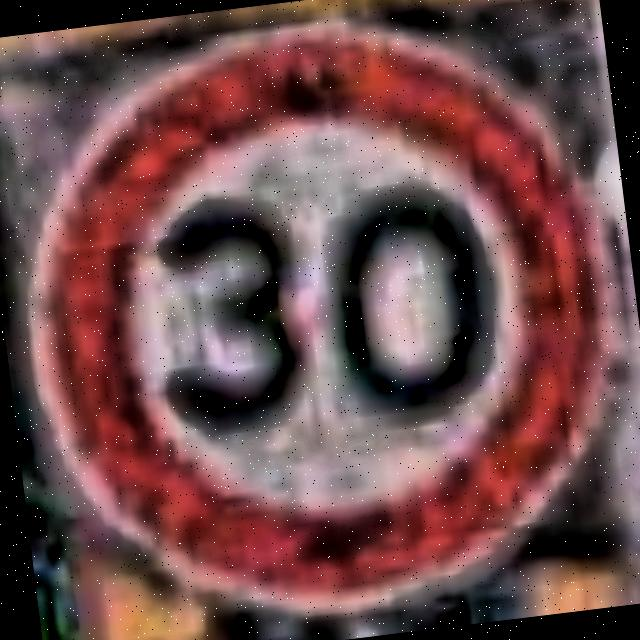speed_30: (17, 9, 628, 628)
